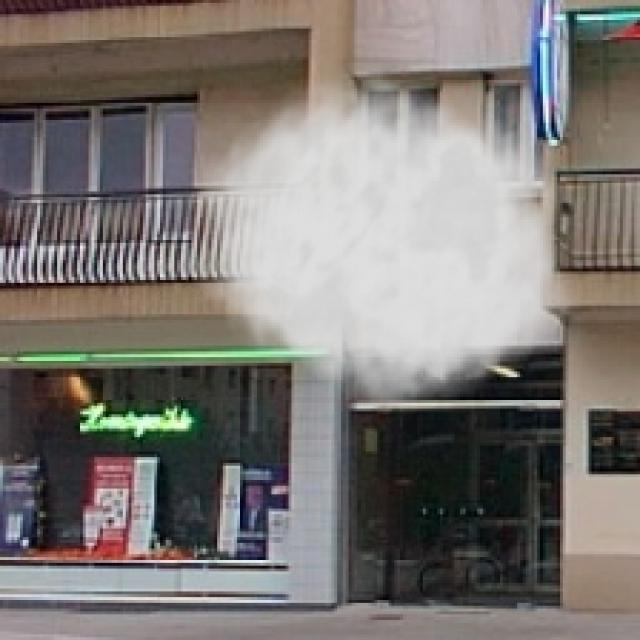smoke: (191, 60, 586, 420)
